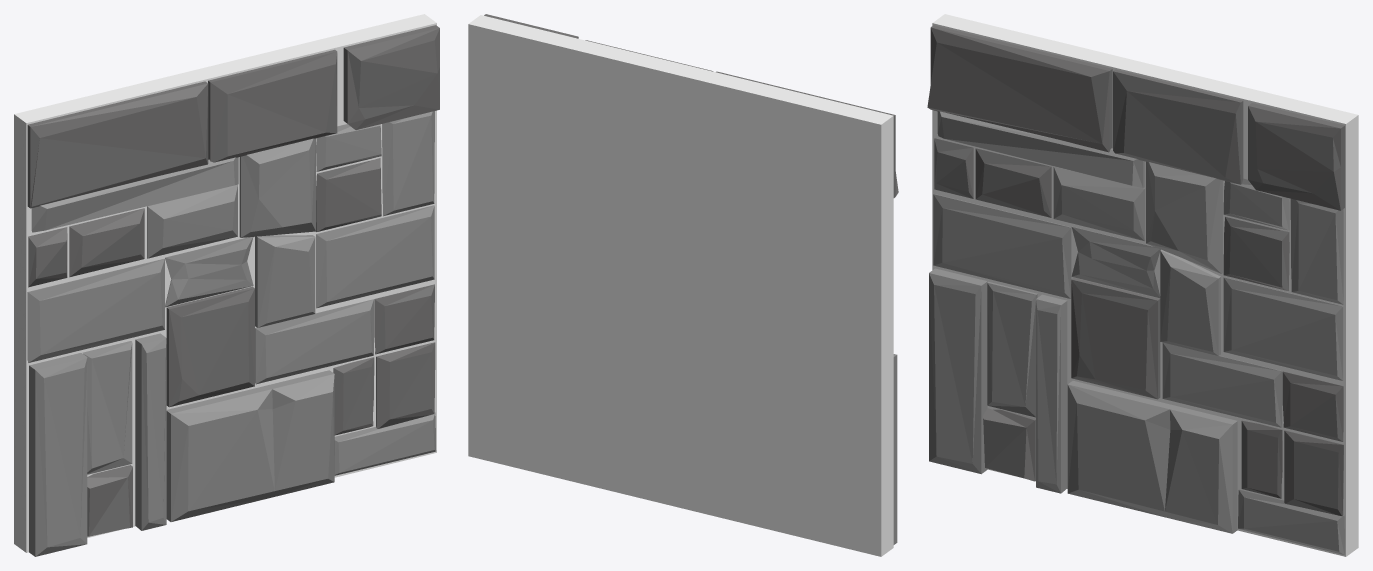
The model's file is _FOUNDATION_03_1.fbx.
3 renders of one model, left to right at view 1: azimuth 30°, elevation 25°; view 2: azimuth 150°, elevation 25°; view 3: azimuth 330°, elevation 25°, orthographic.
Visible parts, largest first — view 1: FOUNDATION_03_1; view 2: FOUNDATION_03_1; view 3: FOUNDATION_03_1.
Boxes of the visible parts, x1,y1,x2,y2 form: FOUNDATION_03_1: [14, 14, 439, 556]; FOUNDATION_03_1: [468, 14, 898, 556]; FOUNDATION_03_1: [927, 14, 1358, 556].
Bounding box in the file's own units: 100 × 100 × 9.87.
